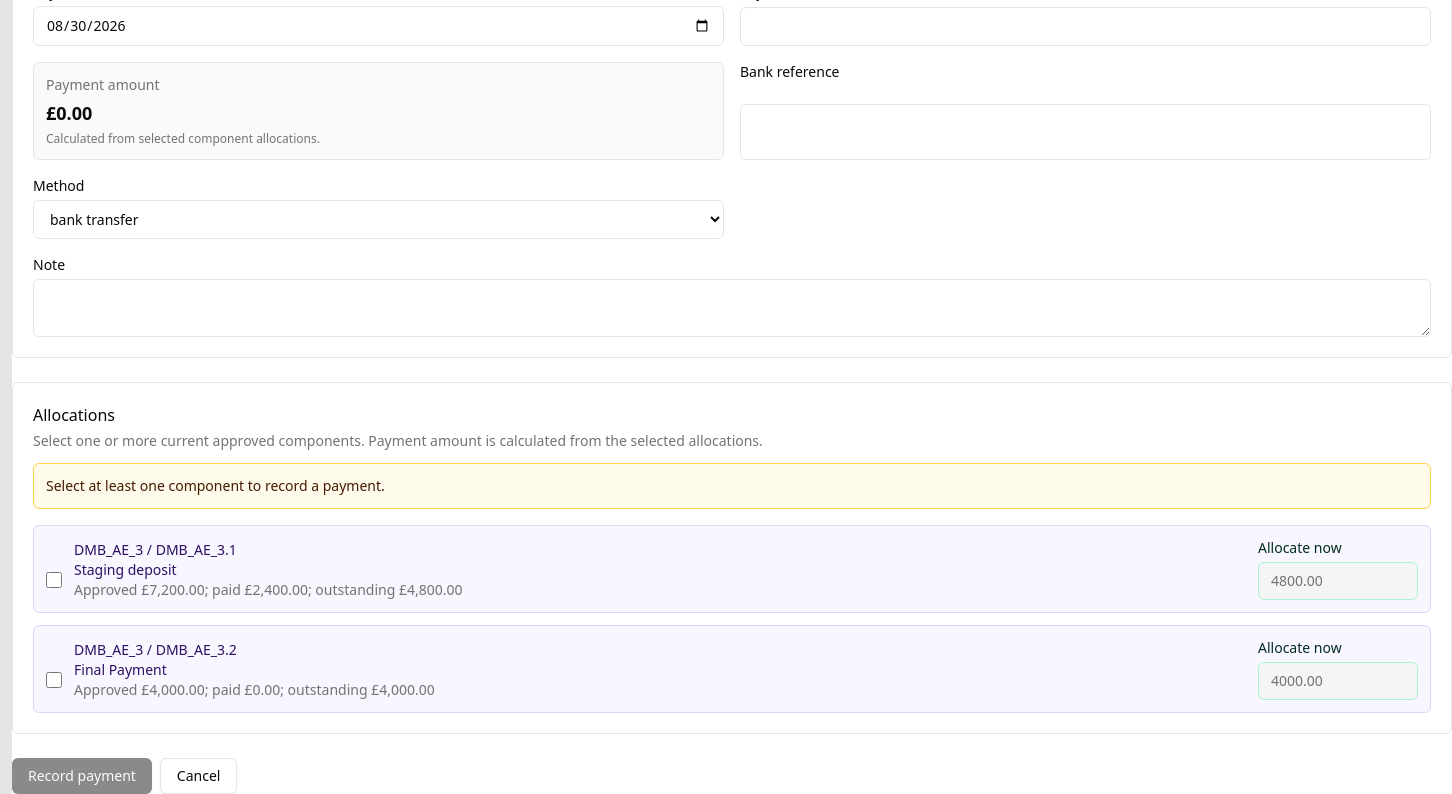
Test: Stage 7 payment panels › keeps request-detail component selection editable and derives payment gross from checked allocations
(page scrolled)
Expected: the text "£0.00" is shown, [46,101,92,125]
Expected: the text "Select at least one component to record a payment." is shown, [33,463,1431,509]
Step 1. Click the checkbox named "Allocate DMB_AE_3.1" → (54, 580), box [46,572,62,588]
(page scrolled)
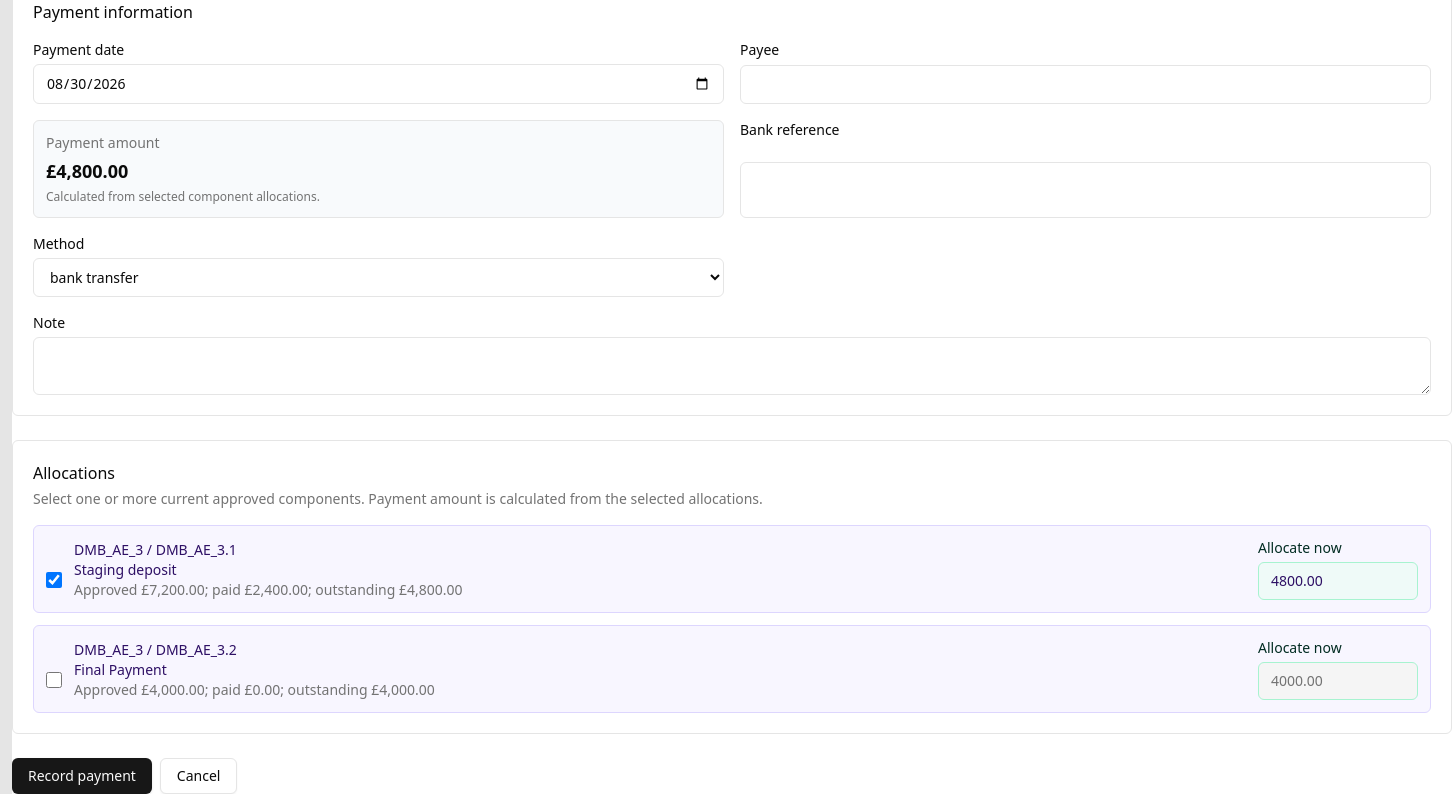
Expected: the text "£4,800.00" is shown, [46,159,128,183]
Step 2. Click the checkbox named "Allocate DMB_AE_3.2" → (54, 680), box [46,672,62,688]
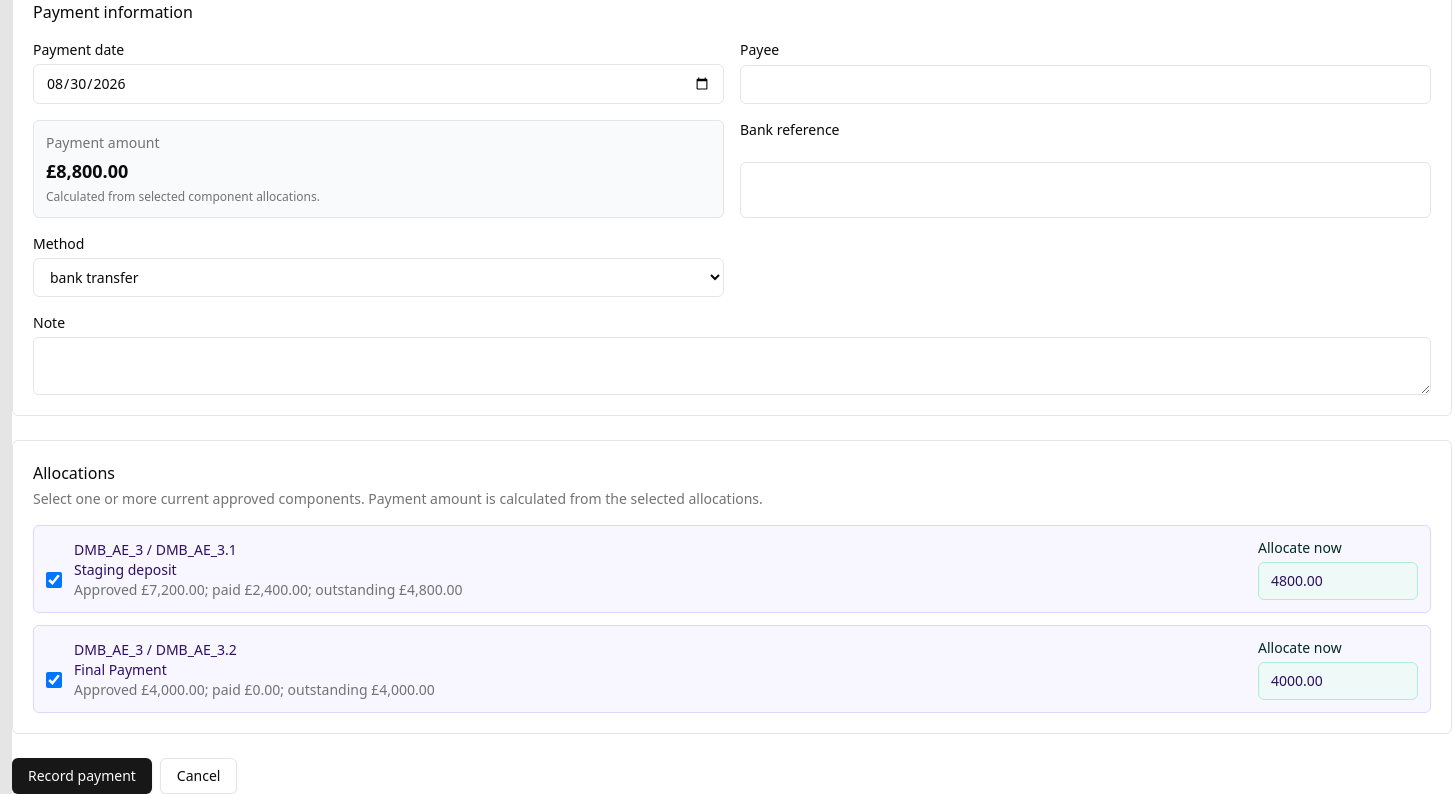
Expected: the text "£8,800.00" is shown, [46,159,128,183]
Step 3. Replace the text in the field labelled "Allocate now" in the row of "£0.00" with "2000.00" → (1338, 681), box [1258,662,1418,700]
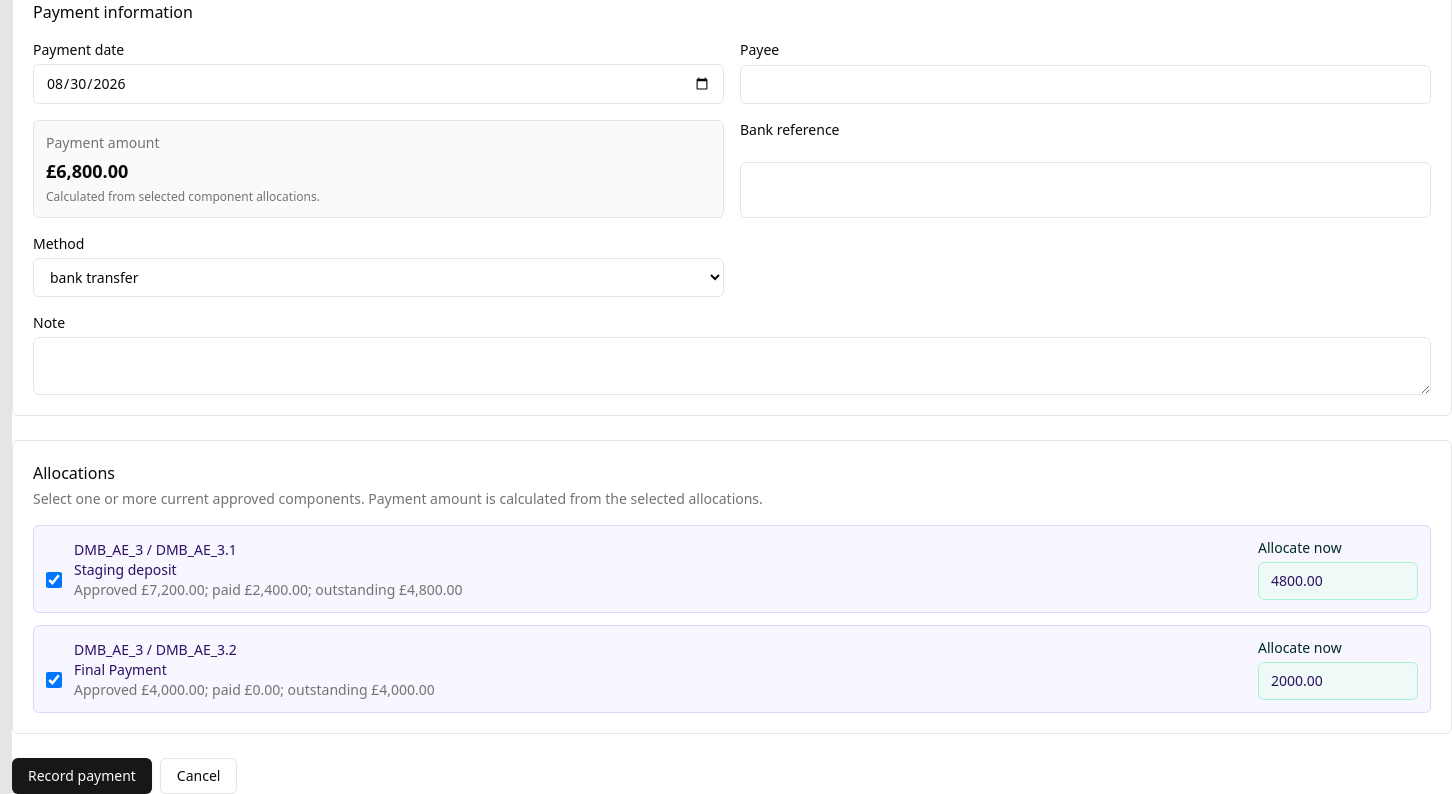
Expected: the text "£6,800.00" is shown, [46,159,128,183]
